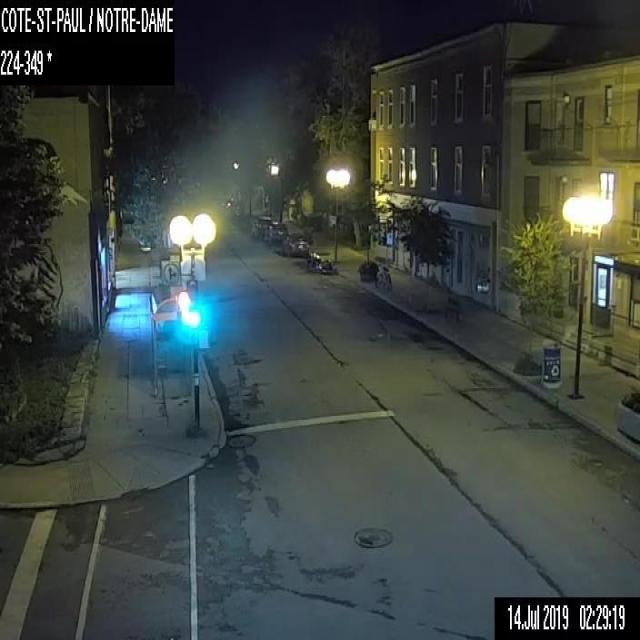vehicle: (305, 249, 333, 274), (281, 232, 308, 256), (263, 222, 287, 246), (249, 215, 272, 238)
